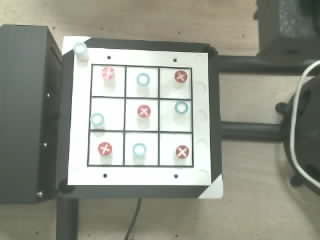blue circle: (133, 143, 145, 157), (137, 73, 149, 86), (175, 101, 188, 113), (91, 113, 103, 126), (73, 42, 86, 54)
board: (68, 48, 212, 185)
cells: (89, 132, 122, 165), (125, 133, 157, 165), (90, 98, 123, 129), (92, 65, 124, 96), (125, 99, 157, 130), (160, 100, 191, 131), (160, 134, 191, 165), (126, 67, 157, 97), (160, 68, 191, 98)
grid: (87, 64, 193, 167)
red cross: (137, 104, 151, 118), (175, 70, 188, 83), (98, 142, 111, 155), (176, 145, 188, 158), (102, 67, 114, 79)
